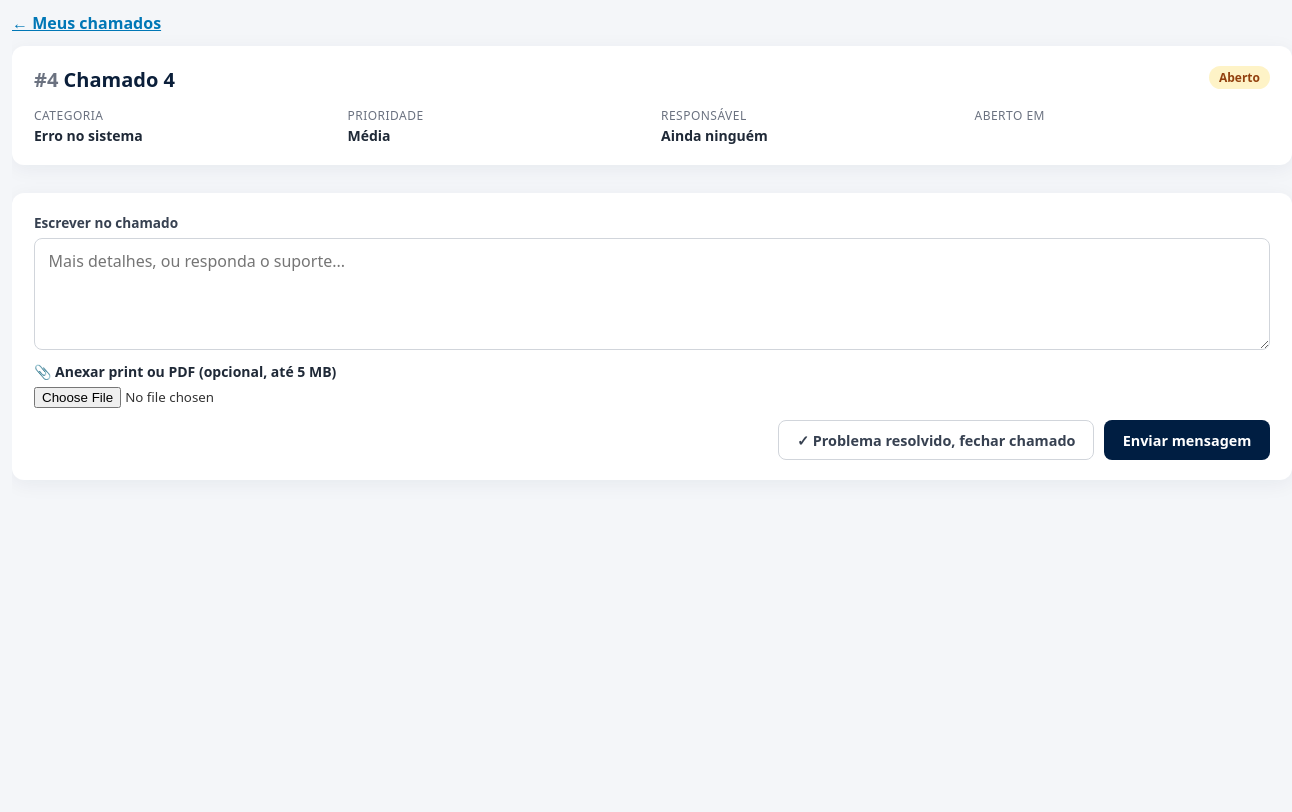
Scenario: conversa: escreve, fecha e volta para a lista
The image size is (1292, 812).
Expected: the heading "#4 Chamado 4" is shown, [34, 66, 175, 93]
Type "Oi" into the text box labelled "Escrever no chamado".
click(652, 294); type("Oi")  # box [34, 238, 1270, 350]
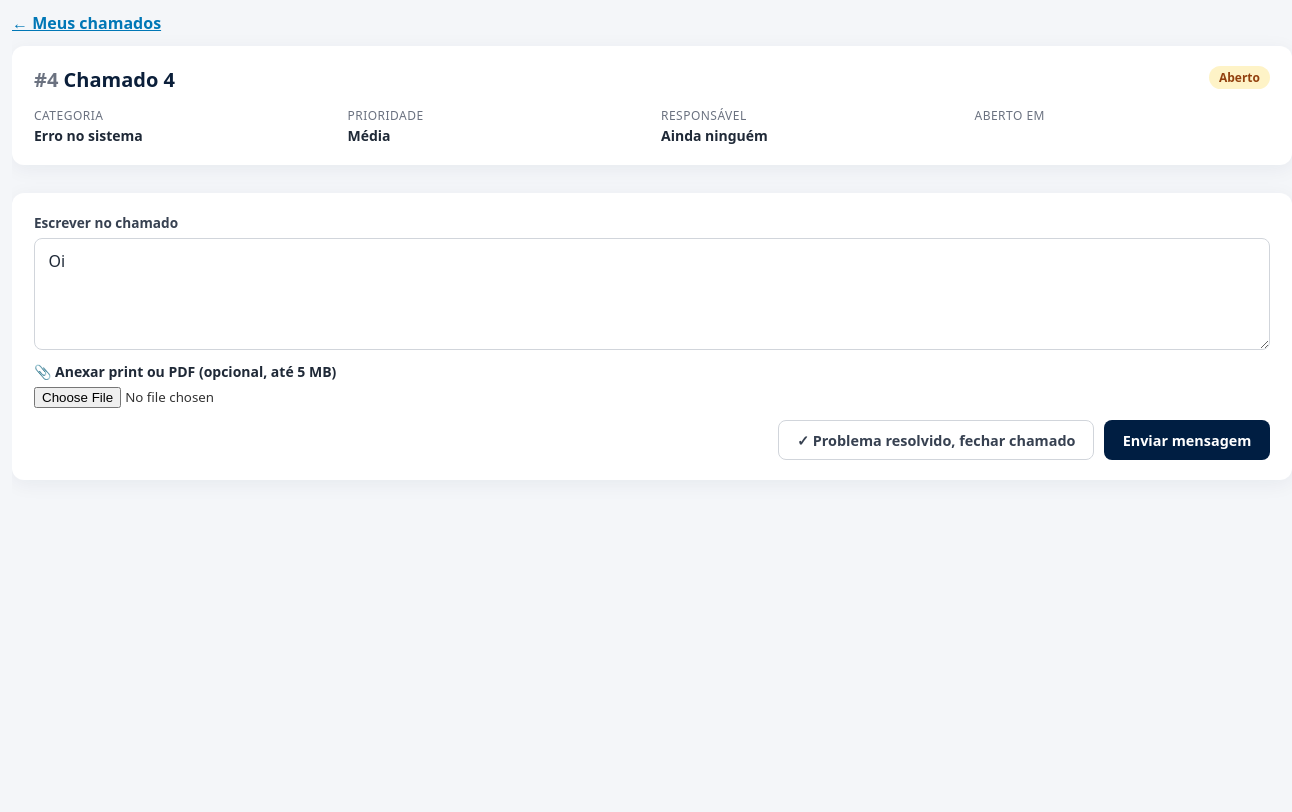
Click the button "Enviar mensagem".
click(1187, 440)  # box [1104, 420, 1270, 460]
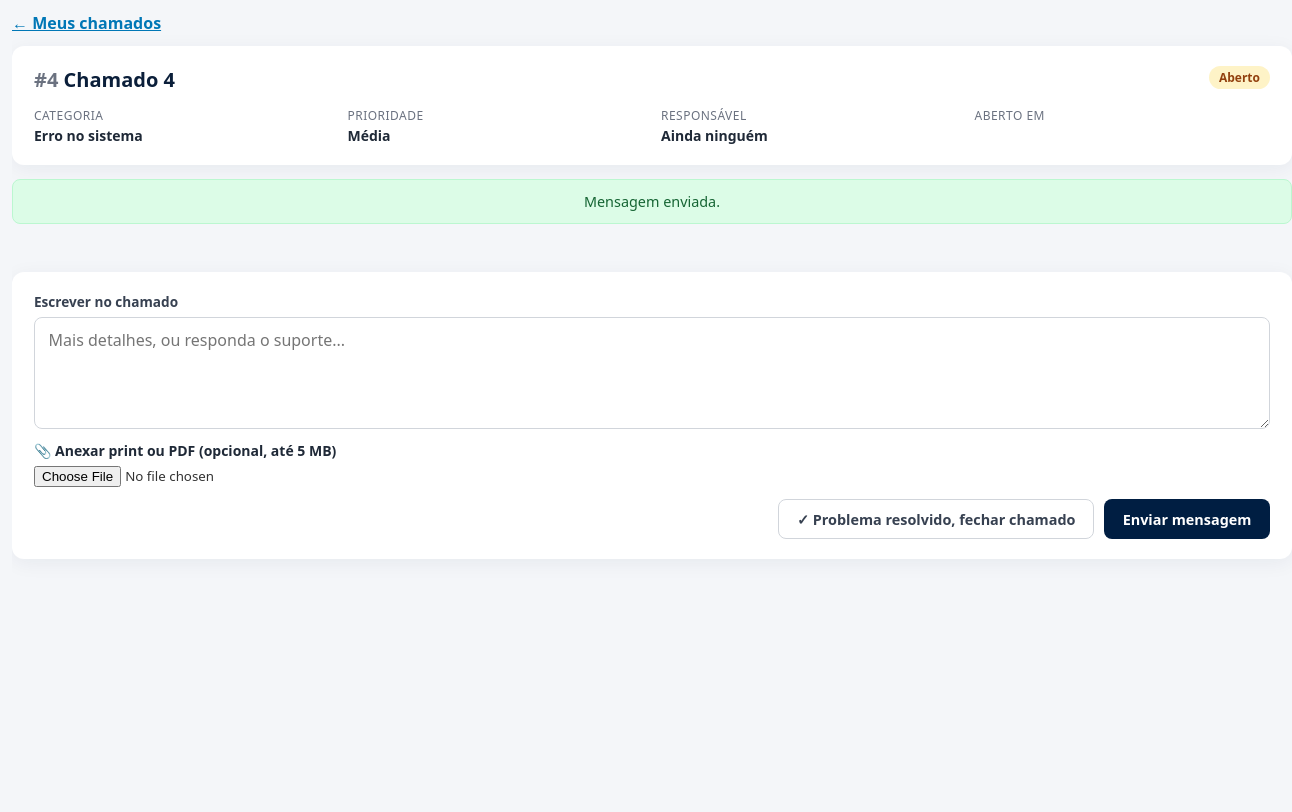
Click the button "✓ Problema resolvido, fechar chamado".
click(936, 519)  # box [778, 499, 1094, 539]
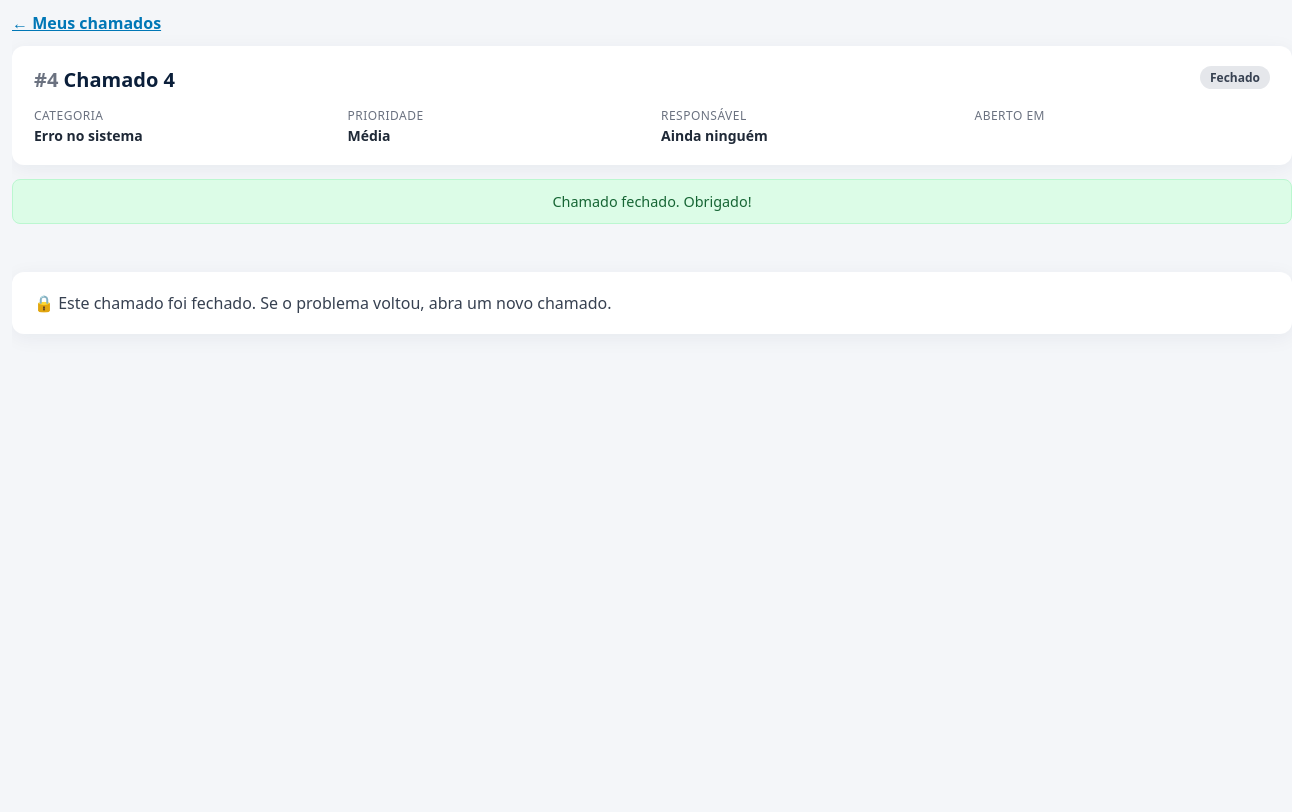
Expected: the text "Este chamado foi fechado" is shown, [34, 292, 612, 314]
